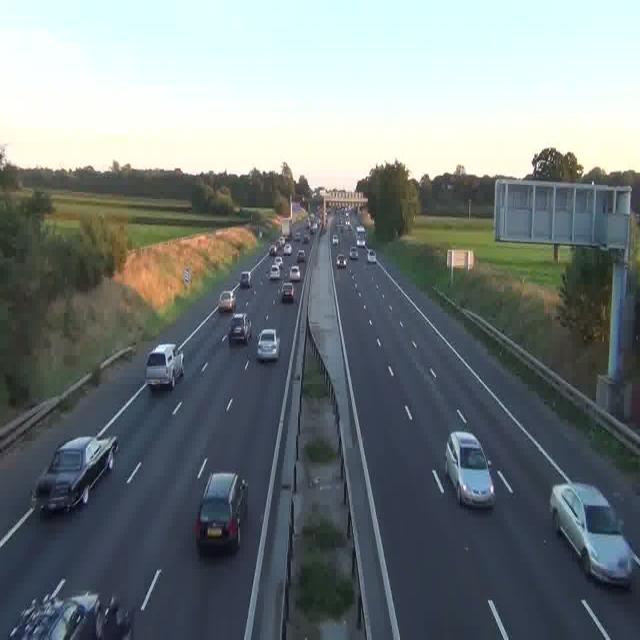car: (550, 483, 634, 585), (34, 436, 116, 513), (11, 591, 130, 640), (196, 472, 248, 553), (444, 432, 494, 508), (146, 343, 184, 390), (256, 327, 280, 360), (229, 314, 251, 345), (219, 290, 236, 312), (282, 280, 296, 301), (270, 263, 282, 280), (239, 271, 251, 288), (290, 264, 302, 281), (336, 252, 346, 266), (366, 250, 376, 263), (296, 249, 305, 262), (348, 248, 357, 261), (268, 244, 277, 257), (332, 234, 338, 245)
truck: (354, 228, 366, 248)
